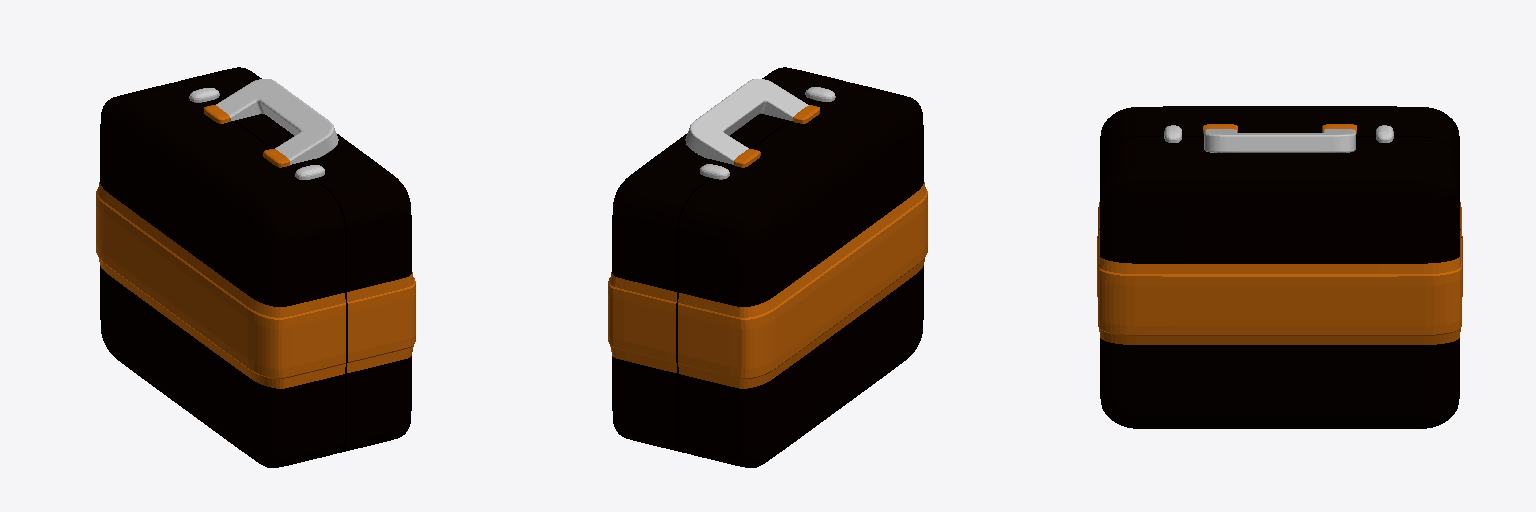
File: briefcasee.obj
3 views of the same model, side by side, from view 1: azimuth 30°, elevation 25°; view 2: azimuth 150°, elevation 25°; view 3: azimuth 270°, elevation 25° (orthographic).
Visible parts, largest first — view 1: Cube, Cube.002, Cube.004_Cube.006, Cube.003_Cube.004; view 2: Cube, Cube.002, Cube.004_Cube.006, Cube.003_Cube.004; view 3: Cube, Cube.002, Cube.004_Cube.006.
Part boxes in pixels (x1,y1,x2,y2): Cube: (96,67,415,467); Cube.002: (216,79,338,164); Cube.004_Cube.006: (189,88,324,179); Cube.003_Cube.004: (204,105,289,167); Cube: (608,67,927,467); Cube.002: (685,79,808,164); Cube.004_Cube.006: (700,87,835,179); Cube.003_Cube.004: (734,105,819,167); Cube: (1097,106,1462,428); Cube.002: (1204,129,1355,152); Cube.004_Cube.006: (1164,125,1393,142).
Bounding box in the file's own units: 1.45 × 2.47 × 2.85.